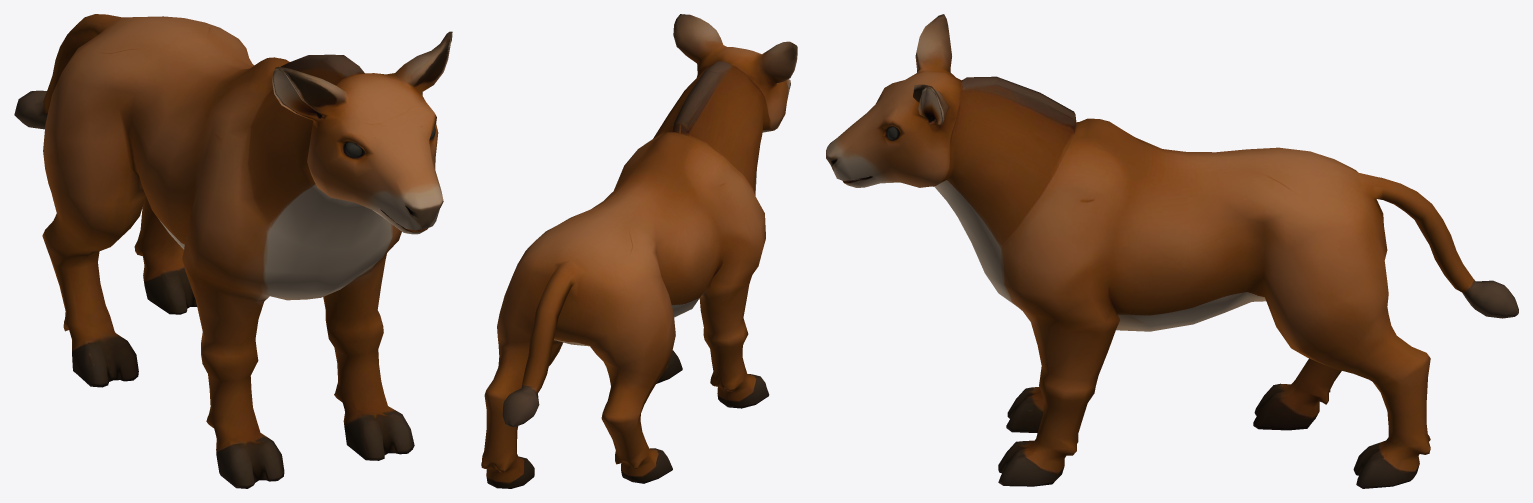
The model's file is 20260601_221152_A_full-body_stylized_quadrup.fbx.
The picture shows the model from 3 angles, left to right: view 1: azimuth 30°, elevation 25°; view 2: azimuth 150°, elevation 25°; view 3: azimuth 270°, elevation 25°; orthographic projection. The views are drawn at different scales.
Parts seen in each view (by area): view 1: tripo_node_fcd86bee; view 2: tripo_node_fcd86bee; view 3: tripo_node_fcd86bee.
Part boxes in pixels (left/top/right/bottom): tripo_node_fcd86bee: left=14, top=14, right=452, bottom=488; tripo_node_fcd86bee: left=481, top=14, right=797, bottom=488; tripo_node_fcd86bee: left=826, top=14, right=1518, bottom=488.
Size of the model in its own units: 0.3066 by 0.6348 by 0.998.
Materials: 1 (1 with a texture image).
